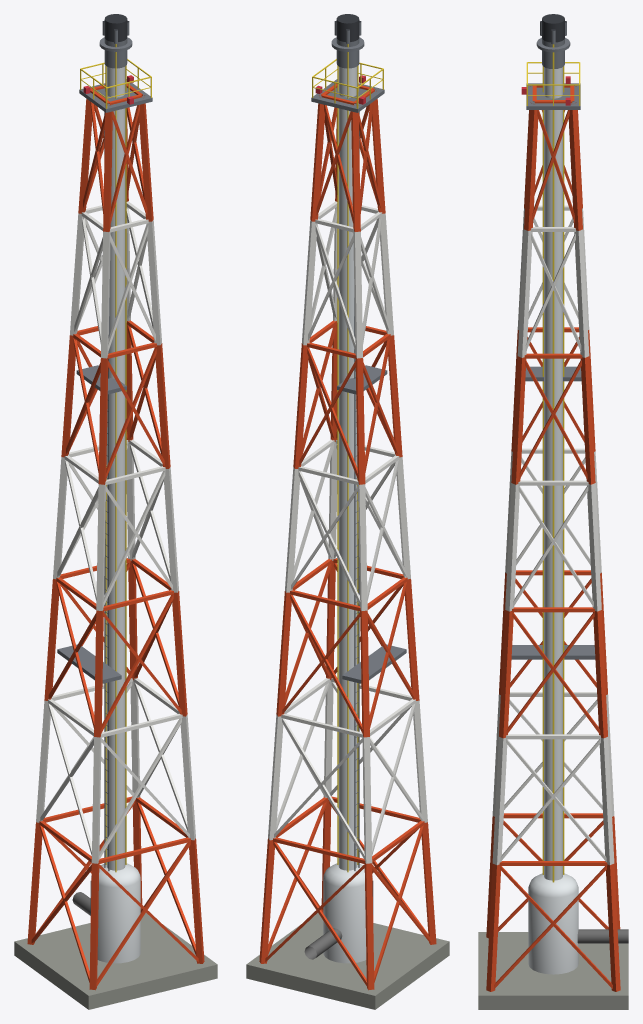
The model's file is mashup-flare-top-prebuilt_close.fbx.
3 views of the same model, side by side, from view 1: azimuth 30°, elevation 25°; view 2: azimuth 150°, elevation 25°; view 3: azimuth 270°, elevation 25° (orthographic).
Parts seen in each view (by area): view 1: a1018/0/mashup-flare-top-prebuilt_close; view 2: a1018/0/mashup-flare-top-prebuilt_close; view 3: a1018/0/mashup-flare-top-prebuilt_close.
Part boxes in pixels (x1=…): a1018/0/mashup-flare-top-prebuilt_close: x1=14, y1=14, x2=217, y2=1009; a1018/0/mashup-flare-top-prebuilt_close: x1=246, y1=14, x2=449, y2=1009; a1018/0/mashup-flare-top-prebuilt_close: x1=478, y1=14, x2=628, y2=1009.
Bounding box in the file's own units: 7.2 × 50.6 × 7.2.
